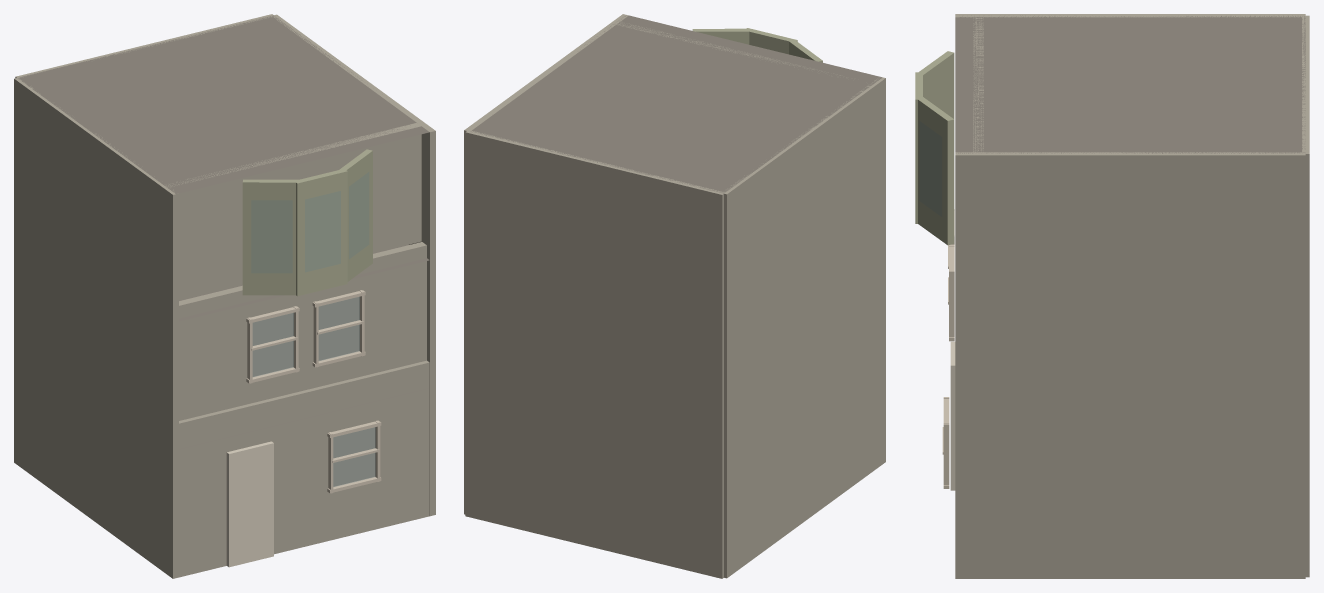
Rendered from watts-example.glb.
3 renders of one model, left to right at view 1: azimuth 30°, elevation 25°; view 2: azimuth 150°, elevation 25°; view 3: azimuth 270°, elevation 25°, orthographic. The views are drawn at different scales.
Parts seen in each view (by area): view 1: Rear addition, Shell, Roof, Floor 2; view 2: Shell, Roof, Rear addition; view 3: Shell, Roof, Rear addition.
Boxes of the visible parts, box(x1,y1,x2,y2) form: Rear addition: box(165, 122, 429, 576); Shell: box(14, 14, 435, 578); Roof: box(18, 15, 429, 193); Floor 2: box(179, 244, 429, 321); Shell: box(464, 14, 885, 578); Roof: box(470, 15, 882, 193); Rear addition: box(617, 22, 846, 77); Shell: box(955, 14, 1309, 578); Roof: box(955, 15, 1305, 153); Rear addition: box(915, 16, 983, 490).
Bounding box in the file's own units: 5.73 × 8 × 6.77.
